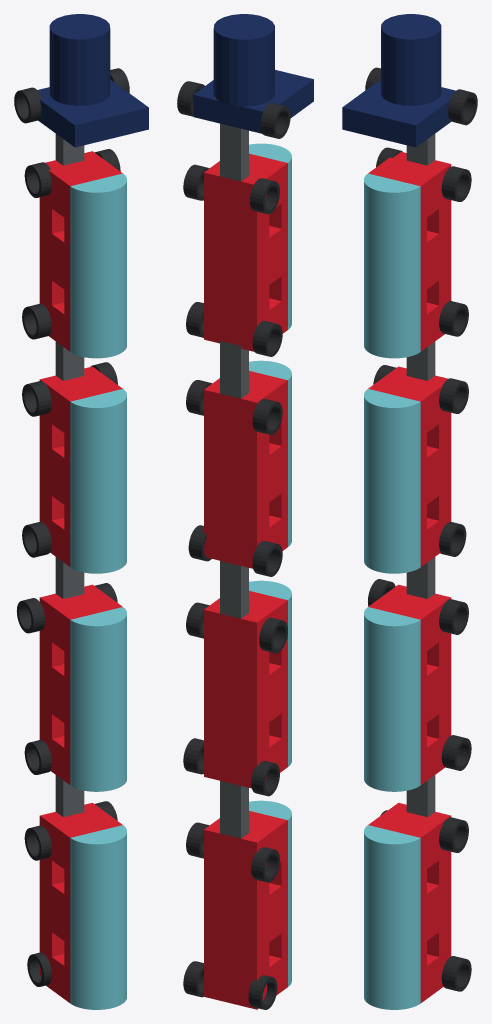
Rendered from tinker.obj.
The picture shows the model from 3 angles, left to right: view 1: azimuth 30°, elevation 25°; view 2: azimuth 150°, elevation 25°; view 3: azimuth 330°, elevation 25°; orthographic projection.
Visible parts, largest first — view 1: group_0_7720667, group_0_15277357, group_0_1650274, group_0_2829873, group_0_6383466; view 2: group_0_15277357, group_0_2829873, group_0_1650274, group_0_6383466, group_0_7720667; view 3: group_0_7720667, group_0_15277357, group_0_1650274, group_0_2829873, group_0_6383466.
Boxes of the visible parts, x1,y1,x2,y2 form: group_0_7720667: (70, 173, 126, 1009); group_0_15277357: (39, 151, 122, 1002); group_0_1650274: (37, 14, 148, 147); group_0_2829873: (14, 68, 129, 986); group_0_6383466: (55, 134, 84, 817); group_0_15277357: (204, 153, 287, 1009); group_0_2829873: (177, 81, 290, 1009); group_0_1650274: (193, 14, 313, 133); group_0_6383466: (220, 123, 248, 838); group_0_7720667: (249, 143, 291, 986); group_0_7720667: (364, 173, 420, 1009); group_0_15277357: (368, 152, 451, 1003); group_0_1650274: (342, 14, 455, 147); group_0_2829873: (365, 67, 477, 991); group_0_6383466: (406, 134, 435, 817).
Size of the model in its own units: 37 by 348 by 33.
